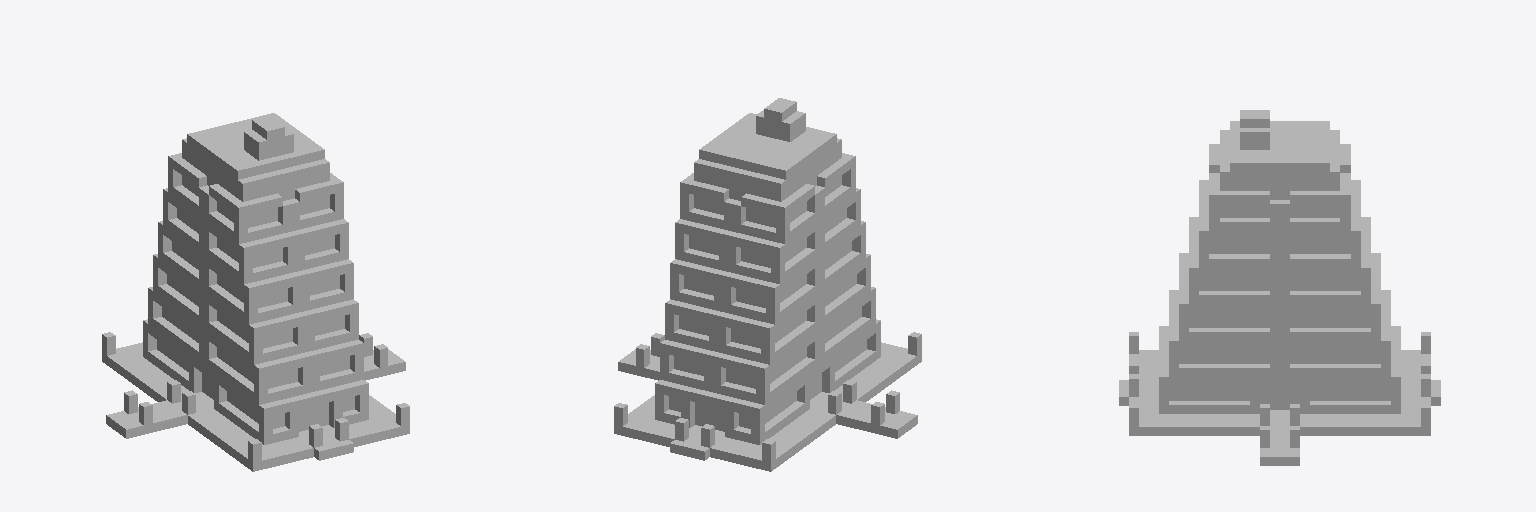
File: House.obj
The picture shows the model from 3 angles: view 1: azimuth 30°, elevation 25°; view 2: azimuth 150°, elevation 25°; view 3: azimuth 270°, elevation 25°; orthographic projection.
Visible parts, largest first — view 1: object 1; view 2: object 1; view 3: object 1.
Part boxes in pixels (x1,y1,x2,y2): object 1: (102, 113, 409, 471); object 1: (614, 98, 921, 471); object 1: (1119, 110, 1440, 465).
Bounding box in the file's own units: 3.2 × 3.1 × 3.2.